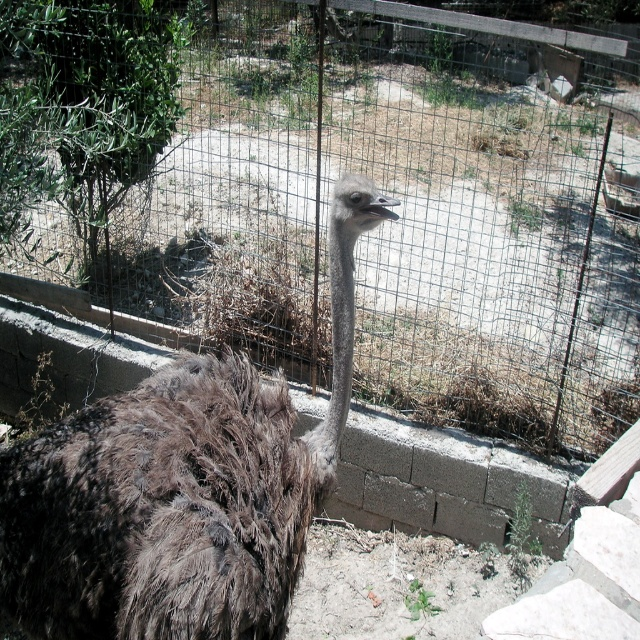Ostrich: (0, 165, 399, 639)
